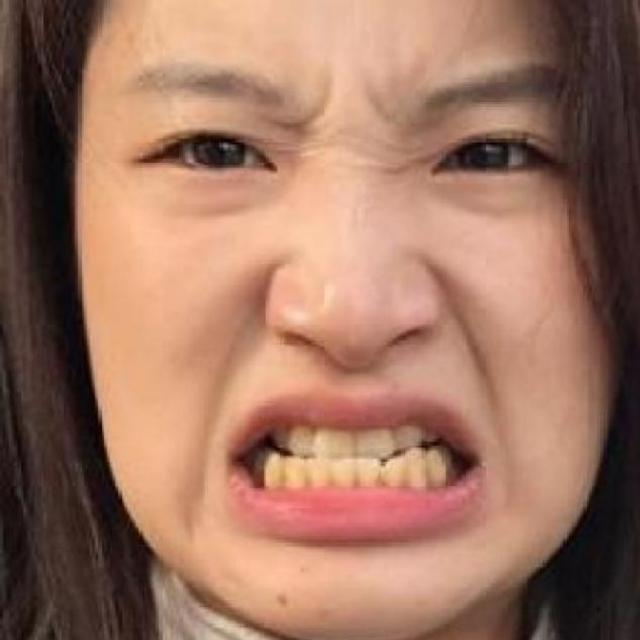Angry: (80, 37, 639, 640)
